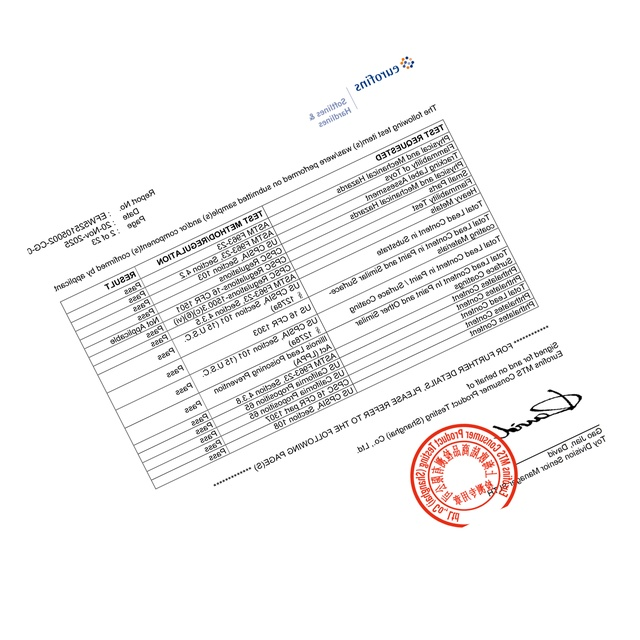eurofins: (352, 54, 418, 92)
